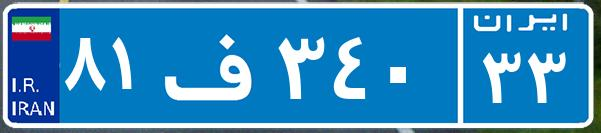0: (385, 28, 445, 110)
1: (110, 28, 158, 105)
3: (273, 28, 330, 110), (475, 38, 525, 113), (525, 38, 570, 115)
4: (330, 28, 385, 110)
8: (57, 26, 110, 107)
ف: (158, 15, 273, 115)
